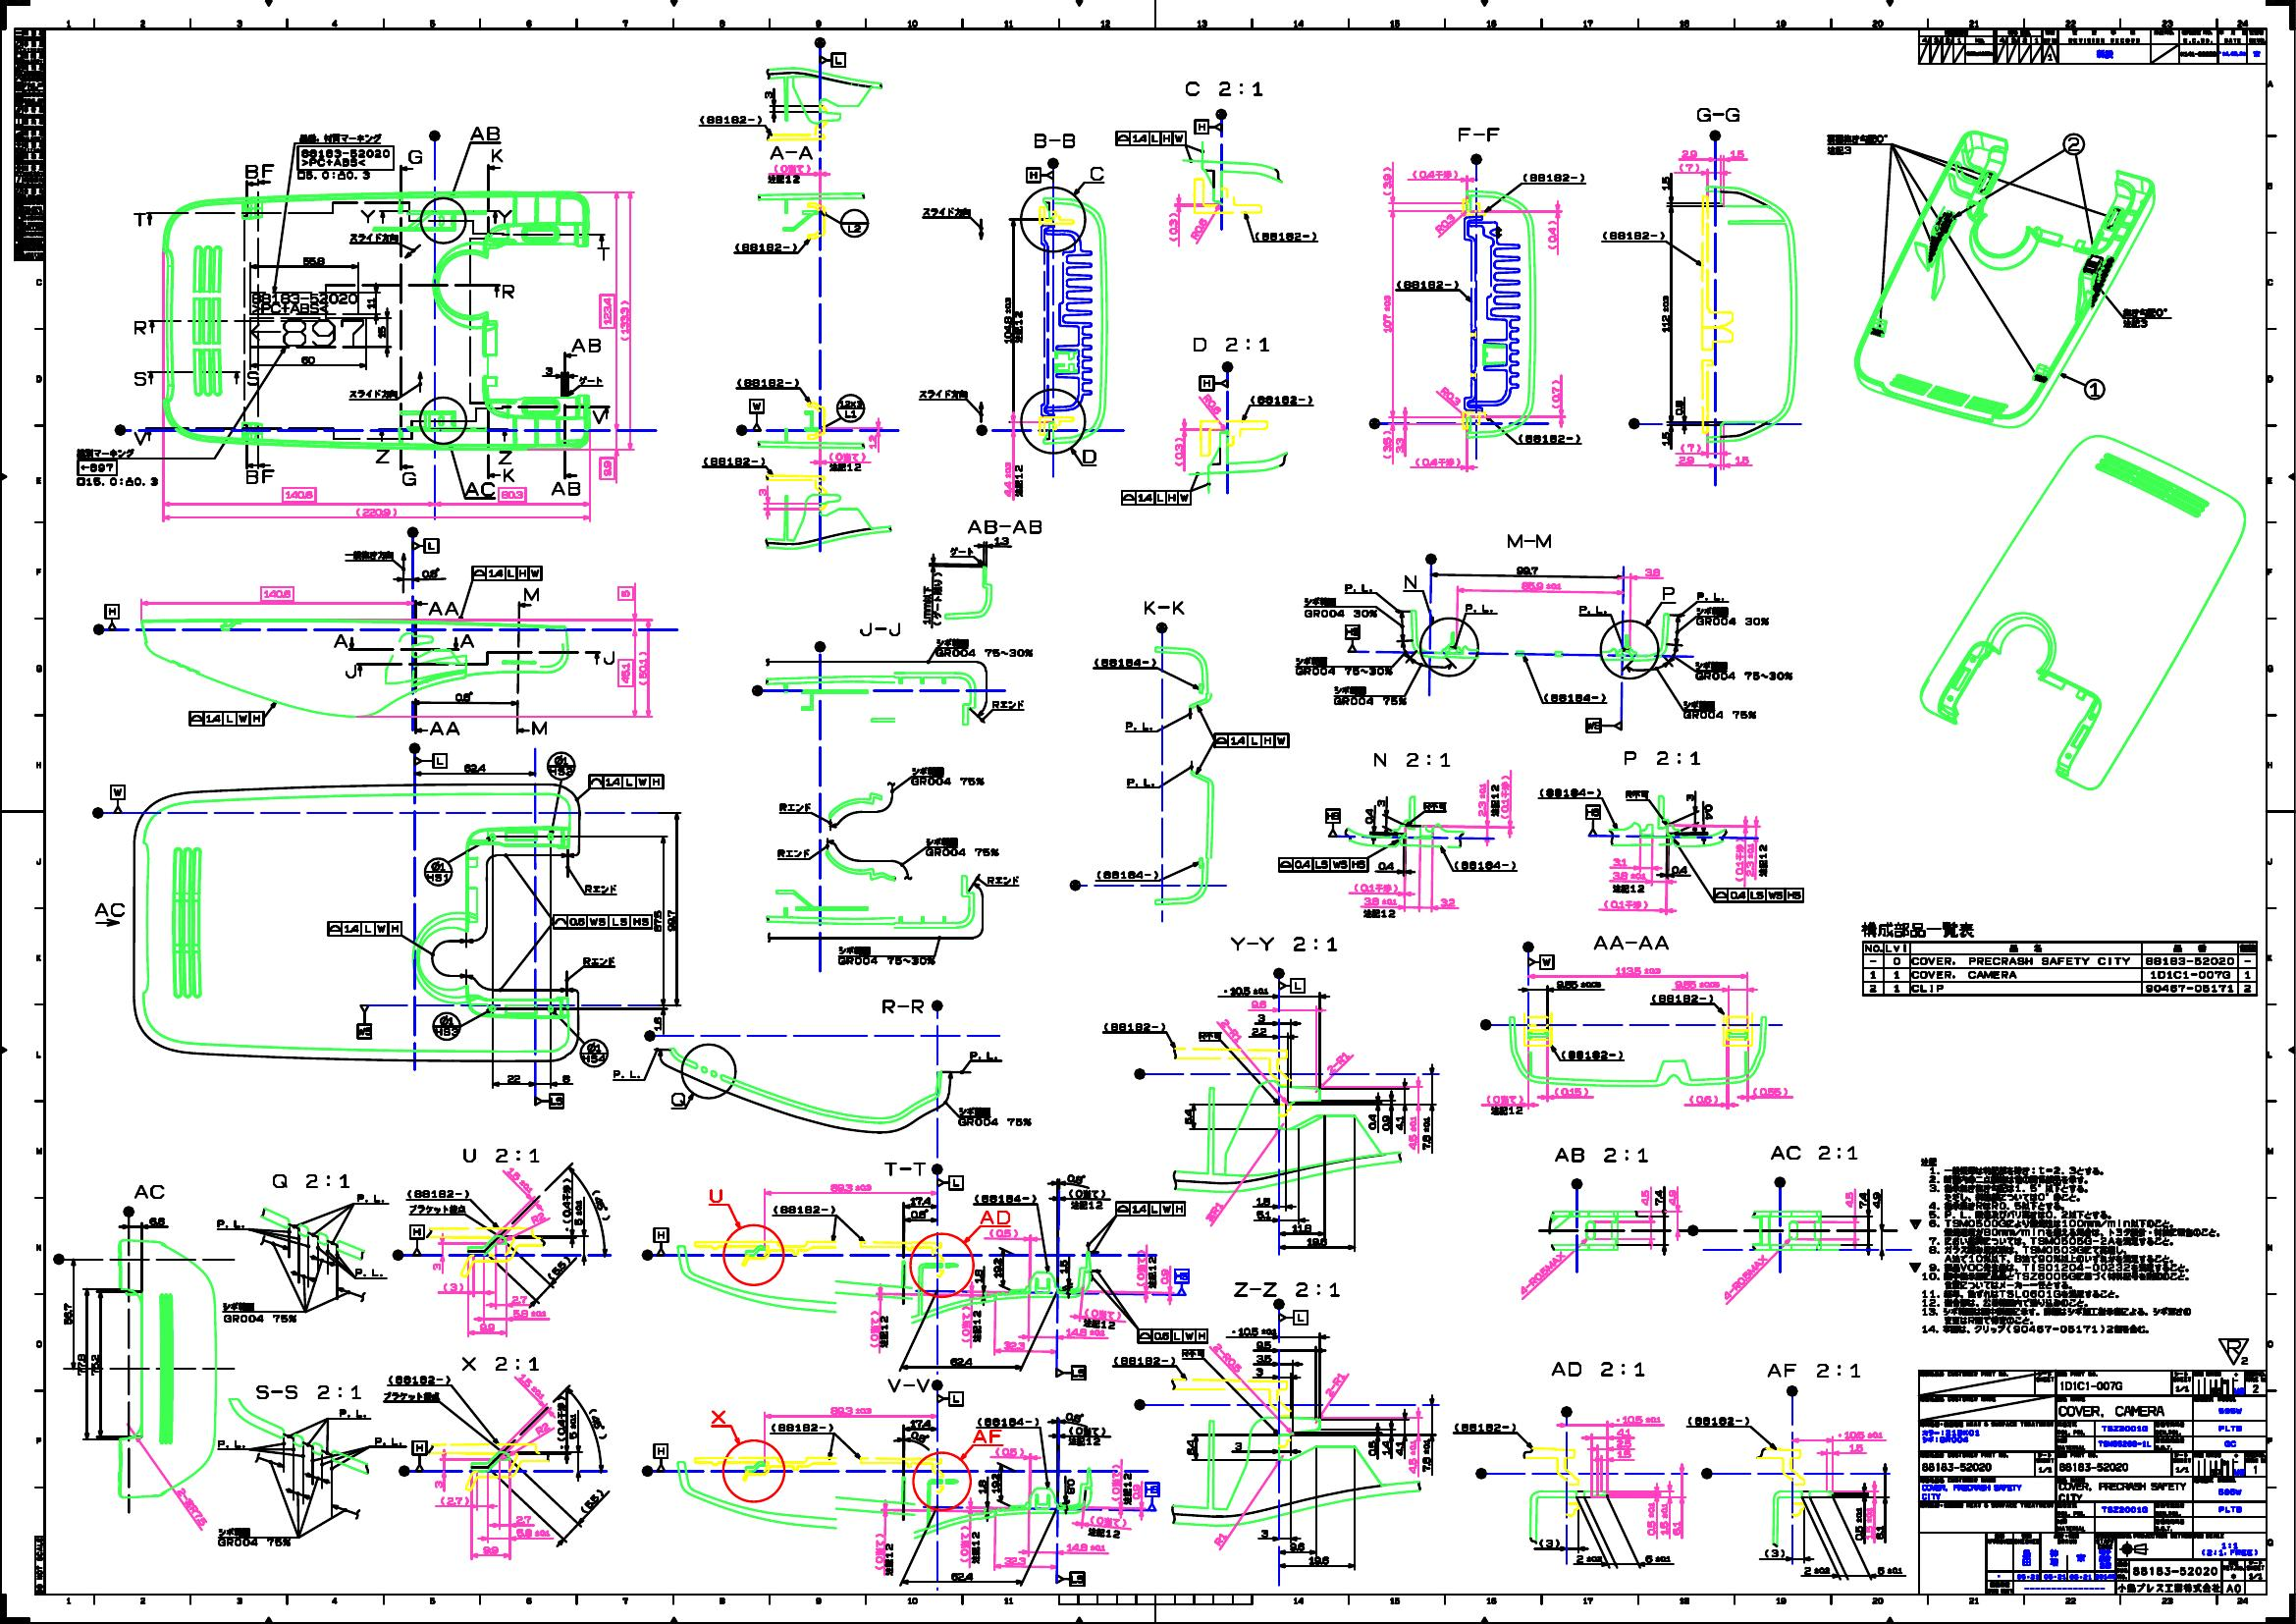anntotation_text: (1908, 1156, 2222, 1334), (1859, 919, 2257, 998), (295, 134, 395, 179), (77, 446, 158, 487), (1295, 654, 1393, 677), (1228, 933, 1339, 953), (838, 946, 936, 967), (1692, 661, 1795, 680), (933, 638, 1033, 657), (1551, 1146, 1650, 1165), (1551, 1359, 1648, 1378), (256, 1383, 362, 1401), (1765, 1360, 1860, 1380), (221, 1301, 299, 1323), (1233, 1280, 1340, 1295), (1332, 685, 1407, 707), (216, 1526, 292, 1547), (924, 837, 1000, 858), (908, 765, 984, 786), (1713, 886, 1802, 903), (1620, 747, 1700, 766), (460, 1353, 541, 1373), (460, 1146, 541, 1165), (1683, 700, 1757, 721), (1825, 132, 1888, 156), (1592, 933, 1671, 953), (1697, 605, 1769, 626), (1303, 598, 1381, 617), (1191, 334, 1268, 353), (272, 1171, 350, 1190), (1767, 1144, 1860, 1160), (957, 1107, 1033, 1127), (1372, 750, 1453, 768), (1279, 858, 1368, 874), (1184, 79, 1263, 97), (553, 914, 652, 928), (966, 518, 1042, 534), (921, 571, 942, 627), (190, 710, 264, 726), (590, 773, 662, 789), (1121, 489, 1191, 504), (1212, 733, 1289, 747), (2120, 306, 2168, 329), (1116, 130, 1184, 146), (1138, 1327, 1207, 1343), (1116, 1200, 1184, 1216), (473, 566, 541, 582), (327, 921, 402, 935), (1110, 1462, 1133, 1506), (2219, 1336, 2250, 1367), (873, 1531, 894, 1577), (766, 163, 812, 185), (422, 856, 453, 886), (840, 207, 870, 239), (1685, 1413, 1750, 1427), (432, 1011, 462, 1040), (734, 241, 798, 255), (1066, 1425, 1107, 1446), (959, 1524, 980, 1564), (1507, 1265, 1576, 1278), (1711, 1271, 1780, 1283), (1486, 1093, 1523, 1116), (580, 1037, 608, 1067), (834, 394, 864, 422), (1505, 533, 1553, 550), (1031, 132, 1079, 149), (1541, 691, 1607, 703), (1137, 1250, 1158, 1288), (961, 1306, 982, 1345), (1695, 105, 1741, 123), (1537, 786, 1602, 798), (736, 376, 801, 388), (546, 750, 574, 779), (1068, 1188, 1105, 1209), (1518, 432, 1581, 445), (1089, 1517, 1126, 1538), (1453, 1422, 1516, 1434), (773, 1202, 836, 1214), (1096, 868, 1159, 881), (1560, 1048, 1623, 1060), (827, 450, 864, 471), (703, 455, 766, 468), (882, 1160, 926, 1178), (33, 1534, 46, 1596), (1455, 859, 1516, 872), (870, 1309, 889, 1348), (769, 144, 815, 160), (880, 998, 924, 1014), (859, 620, 903, 636), (1142, 599, 1186, 615), (1600, 230, 1665, 241), (1249, 394, 1314, 404), (1101, 1021, 1166, 1032), (386, 1374, 451, 1385), (406, 1188, 471, 1199), (1093, 657, 1158, 668), (1650, 993, 1715, 1004), (555, 1396, 567, 1450), (1521, 172, 1585, 183), (1254, 230, 1318, 241), (887, 1378, 929, 1394), (1112, 1355, 1175, 1366), (771, 1422, 834, 1432), (699, 114, 762, 125), (1084, 1309, 1121, 1327), (917, 388, 970, 401), (1455, 127, 1500, 141), (922, 206, 973, 218), (383, 1390, 441, 1401), (411, 1439, 429, 1473), (1585, 717, 1621, 733), (107, 784, 126, 814), (2061, 132, 2083, 156), (1353, 881, 1398, 893), (973, 1193, 1036, 1202), (355, 1005, 371, 1040), (977, 1417, 1040, 1425), (430, 719, 462, 736), (748, 399, 766, 431), (1397, 279, 1458, 288), (1600, 900, 1651, 910), (93, 902, 126, 917), (1056, 1362, 1086, 1380), (348, 388, 397, 399), (350, 232, 399, 243), (1195, 118, 1221, 137), (408, 1204, 466, 1213), (1585, 805, 1600, 837), (408, 1225, 423, 1257), (429, 599, 460, 615), (2083, 378, 2105, 401), (169, 1501, 214, 1512), (1498, 773, 1509, 819), (534, 1093, 564, 1109), (1344, 622, 1360, 652), (1279, 1309, 1309, 1325), (980, 1209, 1010, 1225), (653, 1227, 669, 1257), (1325, 808, 1340, 838), (550, 482, 580, 497), (466, 482, 495, 497), (573, 337, 603, 353), (134, 1183, 163, 1199), (415, 752, 448, 766), (562, 1178, 571, 1230), (1757, 840, 1769, 877), (344, 550, 395, 559), (1277, 977, 1305, 993), (1173, 1267, 1189, 1295), (1734, 838, 1744, 881), (581, 954, 617, 967), (1611, 882, 1646, 895), (1409, 170, 1458, 179), (1363, 907, 1398, 919), (1012, 462, 1024, 497), (1198, 376, 1228, 390), (1145, 1482, 1159, 1512), (653, 1443, 668, 1473), (471, 127, 501, 141), (973, 1427, 1000, 1443), (104, 603, 119, 629), (1528, 954, 1555, 970), (413, 538, 439, 554), (1463, 601, 1497, 613), (778, 801, 812, 814), (1414, 457, 1460, 466), (936, 1176, 964, 1190), (936, 1392, 964, 1406), (1056, 1571, 1084, 1585), (775, 847, 812, 858), (1124, 719, 1156, 731), (820, 53, 845, 69), (1014, 308, 1024, 343), (583, 882, 617, 893), (987, 874, 1021, 884), (1579, 603, 1607, 615), (1026, 169, 1054, 181), (531, 719, 548, 738), (968, 1049, 1000, 1060), (1342, 582, 1374, 592), (337, 1408, 369, 1418), (1180, 1346, 1207, 1359), (611, 1069, 641, 1079), (1697, 591, 1727, 601), (374, 1436, 404, 1446), (1126, 777, 1156, 787), (214, 1218, 244, 1229), (1400, 573, 1418, 591), (1490, 782, 1498, 817), (1625, 787, 1650, 800), (355, 1192, 383, 1202), (991, 700, 1024, 708), (671, 1091, 687, 1109), (1658, 584, 1674, 601), (1196, 1030, 1223, 1040), (708, 1186, 724, 1204), (710, 1410, 727, 1425), (330, 633, 348, 649), (1421, 800, 1448, 810), (1080, 448, 1098, 464), (578, 374, 604, 385), (353, 1267, 385, 1276), (216, 1438, 246, 1446), (949, 545, 973, 555), (1089, 165, 1105, 181), (132, 320, 148, 336), (132, 211, 148, 227), (460, 633, 476, 649), (344, 664, 360, 680), (523, 587, 539, 603), (260, 468, 276, 483), (244, 469, 260, 485), (374, 448, 390, 464), (497, 448, 513, 464), (590, 408, 606, 424), (497, 209, 513, 225), (488, 146, 504, 162), (408, 148, 423, 163), (260, 163, 276, 179), (242, 163, 258, 179), (132, 429, 148, 445), (132, 371, 148, 387), (603, 650, 617, 666), (501, 468, 515, 483), (402, 471, 416, 487), (501, 281, 515, 297), (596, 244, 611, 258), (360, 207, 374, 223), (248, 371, 262, 387)
dimension_text: (599, 292, 617, 327), (281, 487, 316, 504), (1230, 1325, 1277, 1338), (260, 585, 293, 601), (617, 659, 636, 685), (1614, 1413, 1662, 1424), (497, 487, 525, 504), (1476, 780, 1488, 817), (829, 1406, 871, 1417), (618, 299, 629, 339), (1065, 1541, 1105, 1552), (1520, 580, 1560, 591), (1003, 297, 1012, 344), (1836, 1429, 1883, 1438), (1223, 986, 1270, 995), (1674, 981, 1722, 990), (1209, 1352, 1247, 1362), (1551, 1086, 1590, 1097), (1323, 1056, 1354, 1069), (829, 1183, 873, 1192), (1556, 981, 1600, 990), (1616, 965, 1660, 974), (1744, 842, 1755, 877), (355, 508, 397, 517), (638, 650, 648, 685), (515, 1380, 550, 1390), (502, 1174, 538, 1185), (511, 1308, 546, 1318), (590, 1408, 603, 1438), (594, 1190, 606, 1220), (599, 457, 615, 480), (1065, 1327, 1105, 1336), (1318, 1378, 1351, 1388), (1407, 1439, 1418, 1473), (1419, 1438, 1430, 1471), (1363, 896, 1397, 907), (1658, 1503, 1669, 1536), (1802, 1564, 1830, 1577), (1876, 1564, 1904, 1577), (1383, 294, 1391, 332), (1381, 165, 1391, 197), (439, 1494, 471, 1504), (1660, 295, 1669, 332), (1186, 223, 1212, 236), (1751, 1086, 1788, 1095), (1648, 1501, 1657, 1538), (576, 1496, 606, 1506), (1216, 1025, 1245, 1035), (515, 1527, 550, 1536), (1866, 1506, 1874, 1541), (1407, 1116, 1416, 1151), (1421, 1116, 1430, 1151), (1200, 399, 1224, 411), (1764, 1545, 1788, 1557), (1381, 431, 1391, 459), (1644, 1554, 1672, 1564), (1003, 462, 1012, 496), (1613, 872, 1646, 881), (1855, 1506, 1864, 1540), (1679, 441, 1702, 453), (441, 1280, 464, 1292), (987, 1229, 1019, 1237), (1168, 213, 1177, 243), (994, 1446, 1024, 1455), (1551, 380, 1560, 410), (1548, 220, 1556, 250), (1173, 438, 1182, 468), (991, 1257, 1003, 1278), (61, 1301, 72, 1325), (573, 1200, 583, 1225), (545, 1262, 573, 1271), (1688, 1095, 1716, 1104), (949, 1355, 971, 1366), (1516, 564, 1539, 575), (1203, 1206, 1226, 1216), (617, 587, 636, 599), (1576, 1554, 1602, 1562), (1367, 1111, 1377, 1132), (422, 566, 439, 578), (455, 691, 473, 703), (462, 763, 487, 772), (1432, 220, 1456, 228), (532, 1422, 550, 1434), (910, 1431, 929, 1441), (1065, 1411, 1084, 1422), (1678, 163, 1700, 172), (666, 909, 675, 932), (653, 909, 662, 932), (950, 1571, 973, 1580), (1003, 1555, 1026, 1564), (1003, 1341, 1026, 1350), (908, 1195, 931, 1204), (1307, 1555, 1330, 1564), (1439, 390, 1462, 399), (77, 1353, 86, 1376), (90, 1353, 98, 1376), (569, 1411, 576, 1439), (1681, 149, 1699, 160), (302, 257, 323, 265), (910, 1418, 931, 1427), (991, 1473, 1000, 1494), (1066, 1174, 1084, 1185), (1159, 1267, 1170, 1285), (1289, 1541, 1307, 1552), (1254, 1339, 1272, 1350), (1393, 1439, 1404, 1457), (1363, 807, 1374, 824), (529, 1213, 546, 1223), (1614, 1438, 1632, 1448), (1845, 1192, 1855, 1209), (1307, 1236, 1328, 1244), (1291, 1223, 1312, 1232), (1131, 1482, 1140, 1501), (910, 1209, 929, 1218), (1539, 1538, 1558, 1547), (148, 1216, 167, 1225), (1873, 1190, 1881, 1209), (1655, 1188, 1664, 1207), (993, 536, 1008, 547), (480, 1322, 495, 1332), (1256, 1352, 1272, 1362), (1381, 1439, 1391, 1455), (1704, 803, 1715, 819), (1671, 1520, 1681, 1536), (1182, 1107, 1193, 1123), (978, 1478, 987, 1496), (1059, 1258, 1068, 1276), (1439, 898, 1456, 907), (1671, 865, 1688, 874), (1644, 568, 1662, 576), (481, 1545, 499, 1554), (1859, 1192, 1867, 1209), (1667, 1190, 1676, 1207), (1381, 1114, 1390, 1132), (1212, 1533, 1226, 1543), (376, 325, 386, 339), (1730, 148, 1746, 156), (1660, 174, 1669, 190), (1734, 455, 1750, 464), (1674, 399, 1683, 415), (1678, 455, 1693, 464), (653, 1016, 662, 1032), (506, 1074, 522, 1083), (1066, 1478, 1075, 1494), (973, 1267, 982, 1283), (1186, 1439, 1195, 1455), (1368, 1439, 1377, 1455), (1377, 861, 1393, 870), (1660, 431, 1669, 446), (1395, 438, 1404, 453), (1616, 1427, 1632, 1436), (1874, 1524, 1883, 1540), (1848, 1443, 1864, 1452), (1641, 1190, 1650, 1206), (1251, 1000, 1267, 1009), (1251, 1026, 1267, 1035), (868, 434, 877, 448), (1613, 858, 1627, 866), (300, 355, 314, 364), (1256, 1209, 1270, 1218), (1395, 1116, 1404, 1130), (515, 1515, 531, 1522), (511, 1295, 527, 1302), (1616, 1450, 1632, 1457), (1256, 1197, 1272, 1204), (365, 297, 374, 309), (545, 366, 555, 374), (1260, 1527, 1268, 1538), (1256, 1012, 1267, 1021), (757, 489, 766, 497), (562, 1074, 571, 1083), (432, 1262, 441, 1271), (1233, 1441, 1242, 1450), (1254, 1367, 1263, 1376), (1375, 798, 1384, 807), (1685, 793, 1693, 801), (434, 1480, 443, 1489), (764, 90, 771, 98)
object: (130, 779, 583, 1063), (1917, 432, 2249, 791), (160, 188, 594, 450), (1852, 128, 2159, 431), (762, 657, 987, 940), (764, 67, 892, 550), (137, 617, 571, 719), (1170, 1376, 1423, 1531), (676, 1454, 1096, 1541), (675, 1239, 1094, 1325), (1170, 1046, 1405, 1193), (116, 1236, 218, 1501), (655, 1046, 952, 1135), (1700, 185, 1799, 446), (1507, 1011, 1769, 1088), (1460, 188, 1539, 439), (1398, 608, 1681, 673), (1038, 193, 1108, 446), (1151, 643, 1214, 907), (227, 1396, 369, 1475), (1523, 1445, 1609, 1543), (1755, 1446, 1834, 1550), (1342, 796, 1465, 851), (1607, 794, 1729, 847), (425, 1227, 546, 1280), (429, 1443, 550, 1492), (1188, 417, 1289, 475), (258, 1206, 365, 1260), (1191, 158, 1286, 218), (1549, 1209, 1643, 1251), (1751, 1209, 1841, 1251)
title_block: (1917, 1369, 2266, 1596), (1917, 26, 2268, 63), (12, 26, 46, 262)
